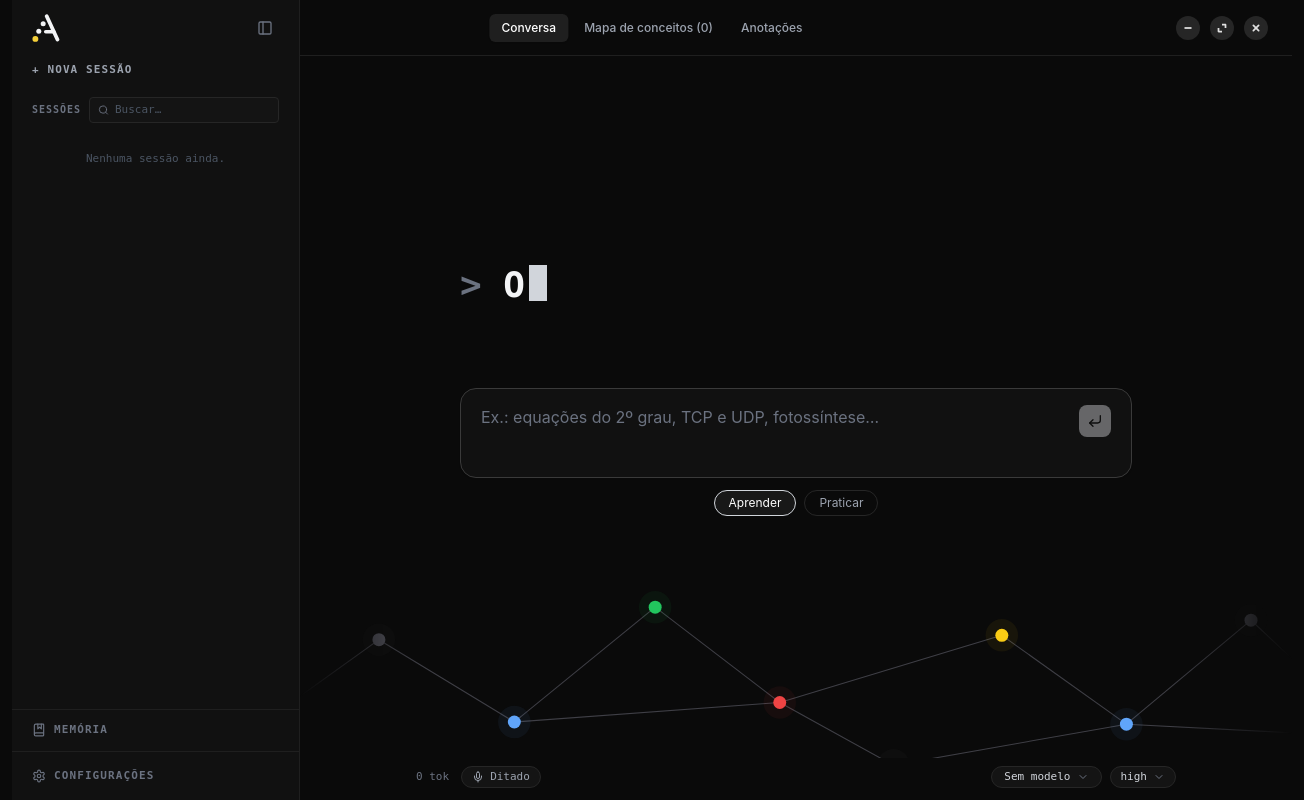
ways into practice (A1) › a blank session can be turned into free practice of a topic
The image size is (1304, 800).
Click the radio button labelled "Praticar" at (842, 503), box [804, 490, 878, 516]
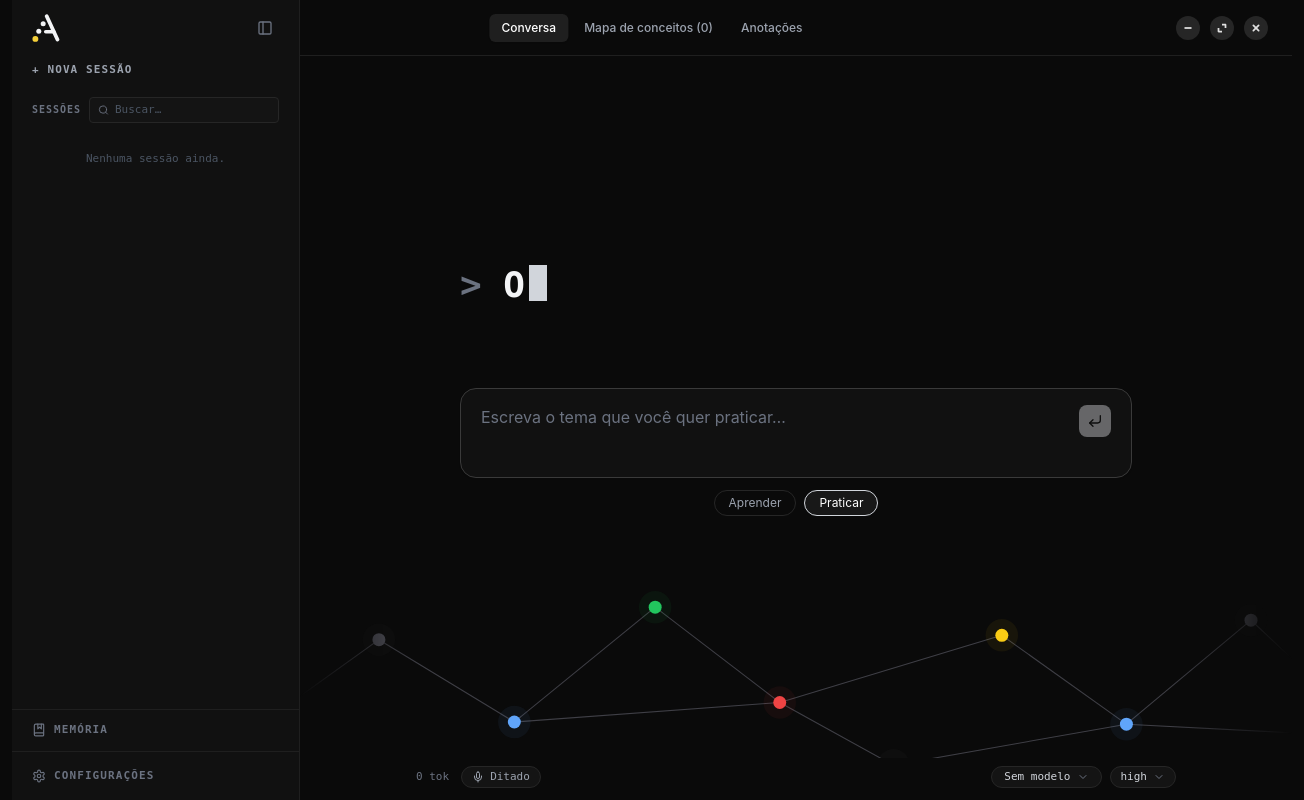
Expected: the radio button labelled "Praticar" is checked, [804, 490, 878, 516]
Type "Recursão" into the text box with placeholder "Escreva o tema que você quer praticar…" at (776, 433), box [481, 405, 1071, 461]
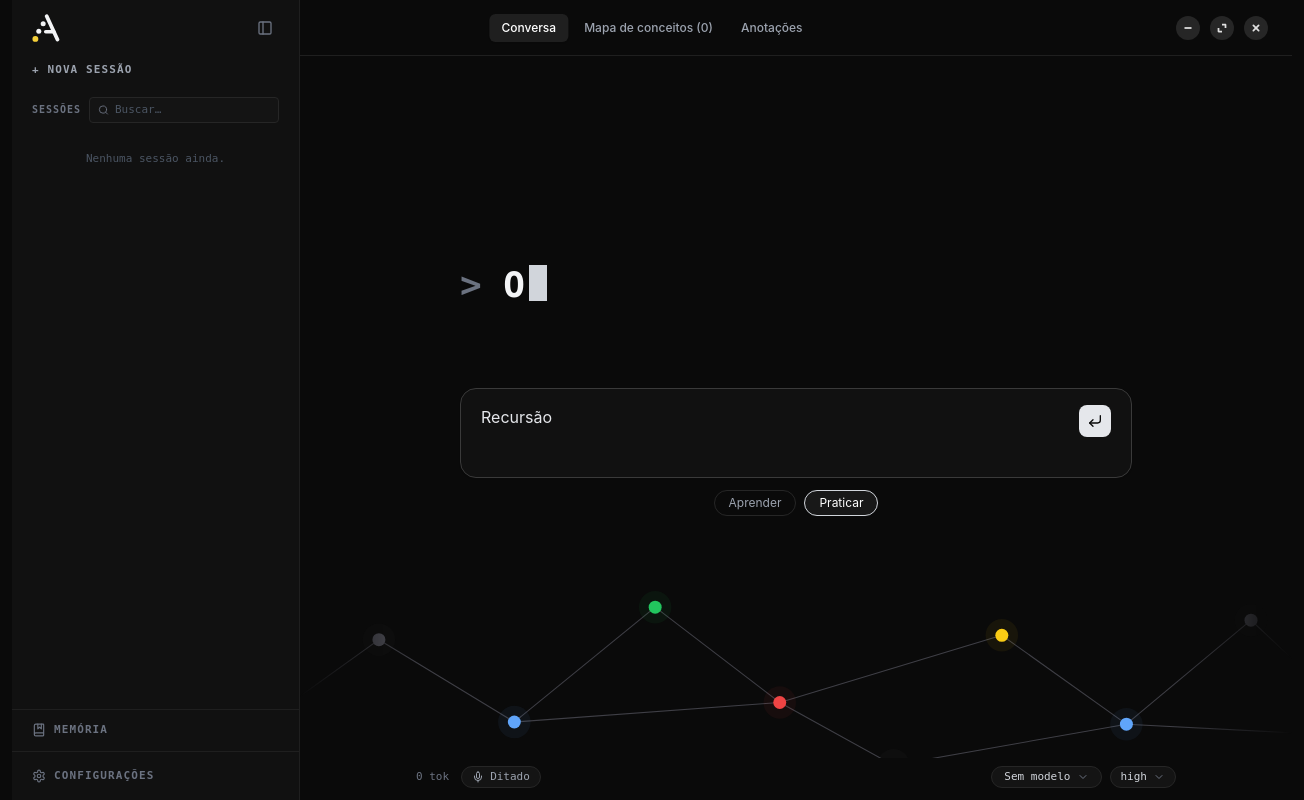
Click the button named "começar" at (1095, 421), box [1079, 405, 1111, 437]
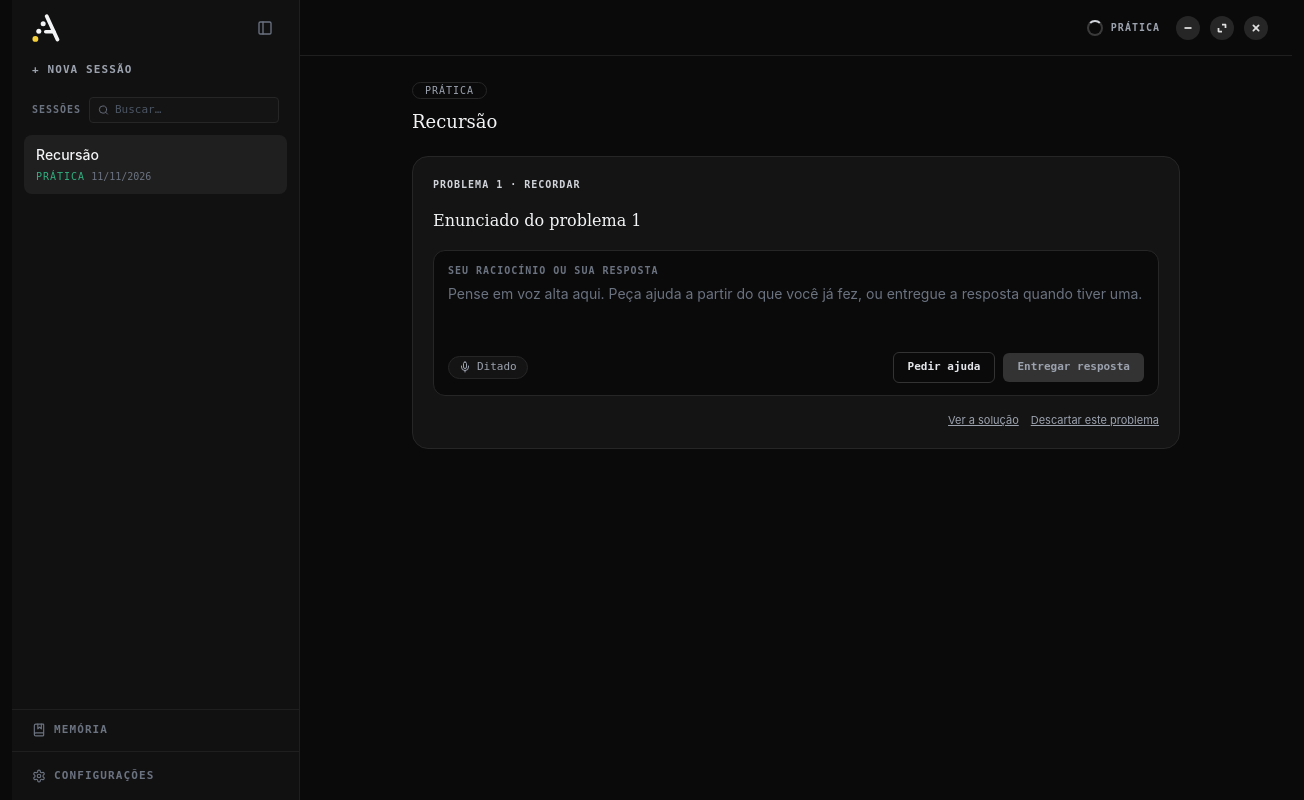
Expected: the text "Enunciado do problema 1" is shown, [433, 211, 642, 230]
Expected: the text "Prática" below "Sessões" is shown, [36, 171, 85, 182]
